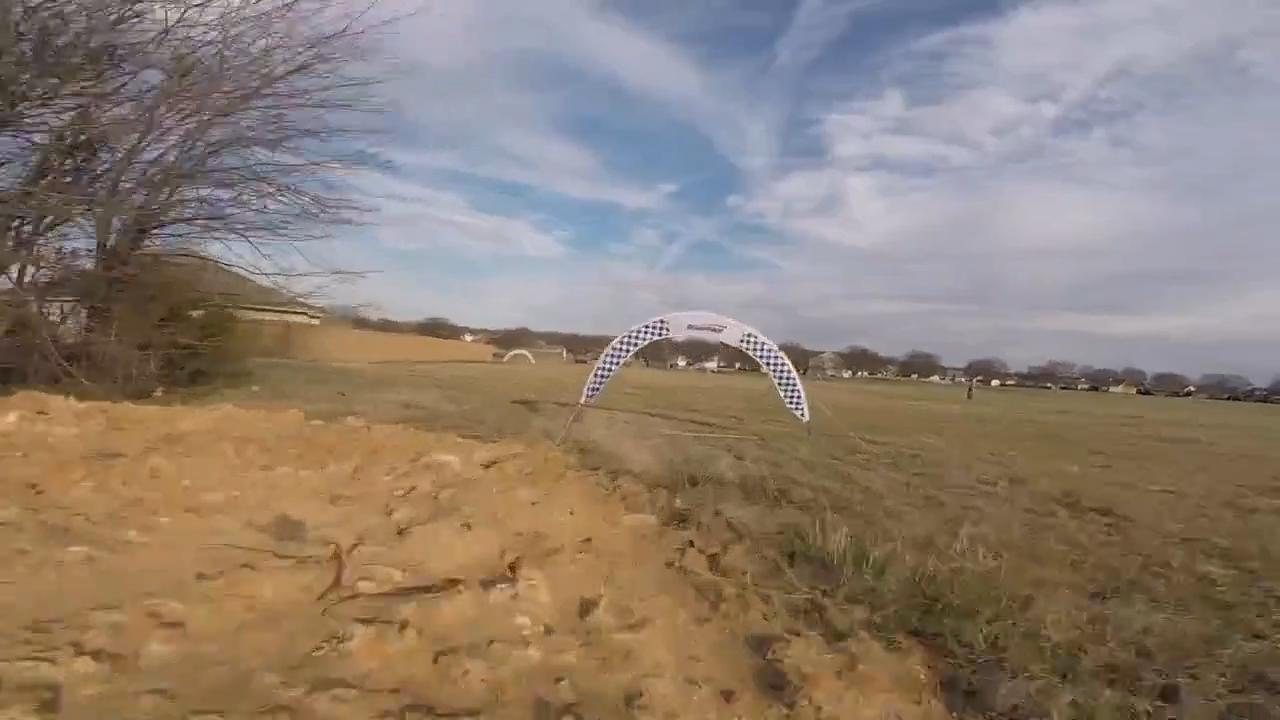gate: (581, 310, 810, 427)
